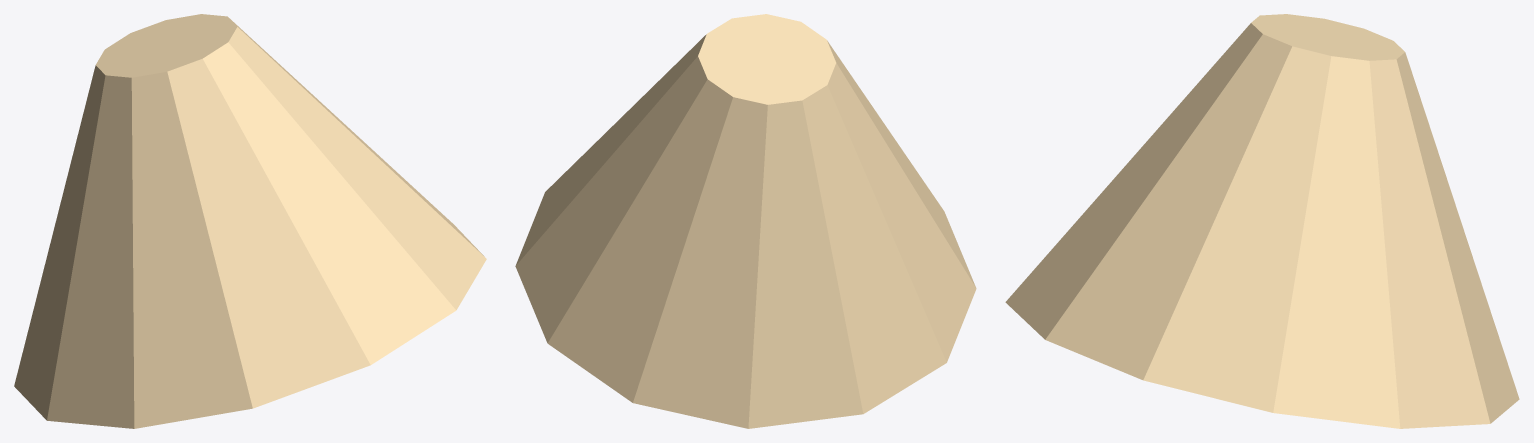
The model's file is LampShade.obj.
The picture shows the model from 3 angles, left to right: view 1: azimuth 30°, elevation 25°; view 2: azimuth 150°, elevation 25°; view 3: azimuth 270°, elevation 25°; orthographic projection. The views are drawn at different scales.
Parts seen in each view (by area): view 1: LampShade; view 2: LampShade; view 3: LampShade.
Boxes of the visible parts, x1=… form: LampShade: x1=14, y1=14, x2=486, y2=428; LampShade: x1=515, y1=14, x2=976, y2=428; LampShade: x1=1005, y1=14, x2=1519, y2=428.
Bounding box in the file's own units: 0.3919 × 0.3114 × 0.3916.
Materials: 1 (1 with a texture image).
